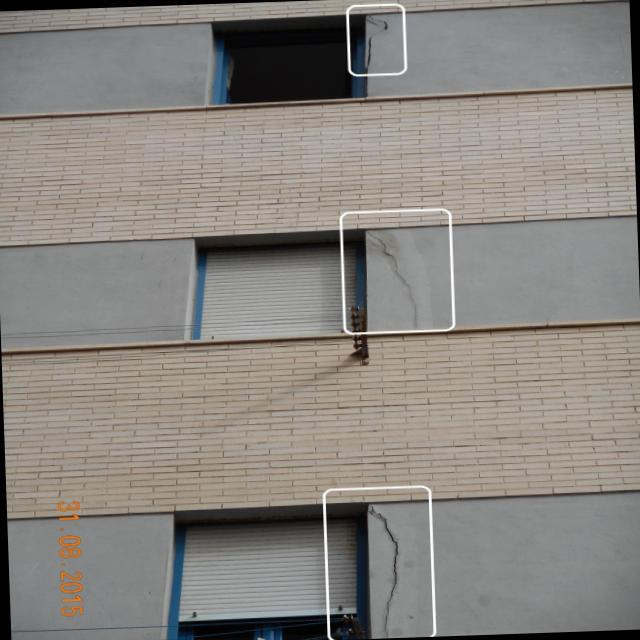crack: (365, 227, 420, 328), (366, 503, 405, 636), (364, 11, 393, 62)
